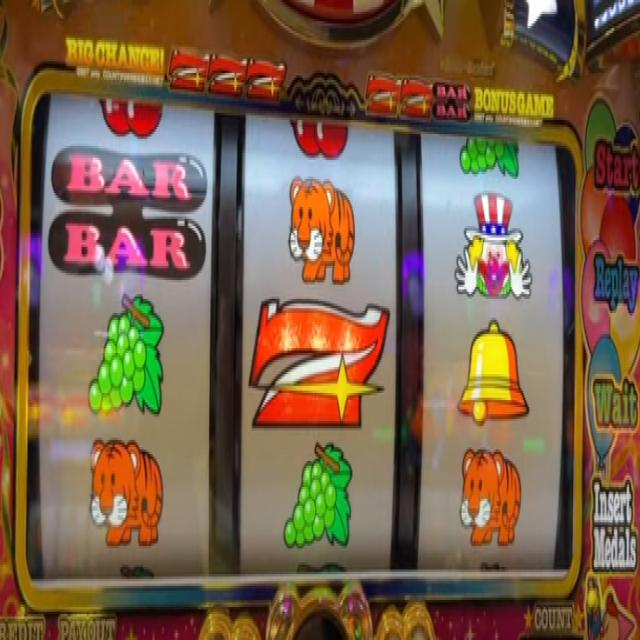bar: (48, 143, 208, 281), (436, 72, 472, 122)
bell: (457, 316, 532, 431)
cherry: (97, 98, 166, 138), (288, 116, 349, 159)
clown: (454, 190, 533, 303)
display: (25, 98, 575, 577)
grape: (87, 288, 165, 418), (283, 439, 351, 549), (459, 132, 520, 179)
tiger: (89, 438, 164, 551), (287, 174, 355, 287), (461, 447, 522, 548)
z: (247, 292, 391, 432), (208, 46, 248, 94), (169, 46, 209, 93), (248, 55, 288, 98), (366, 71, 402, 116), (402, 70, 433, 118)
